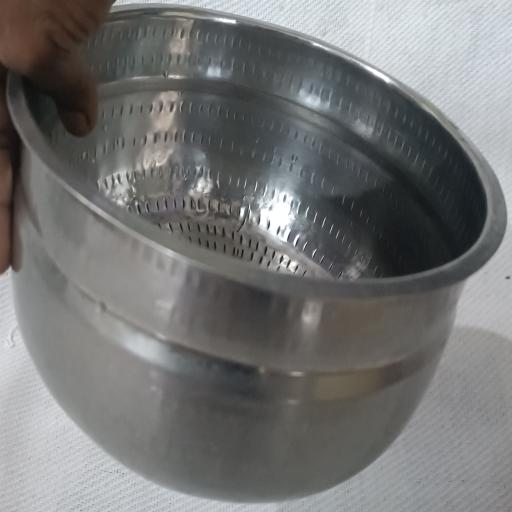vessel: (8, 6, 506, 501)
